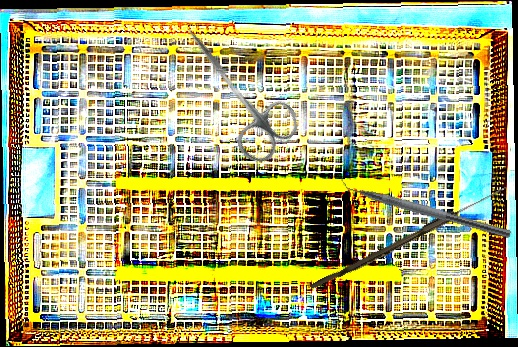Chopper: (330, 170, 516, 239)
Iris Scissors: (159, 8, 308, 171)
Surgical Spoon: (309, 181, 509, 295)
